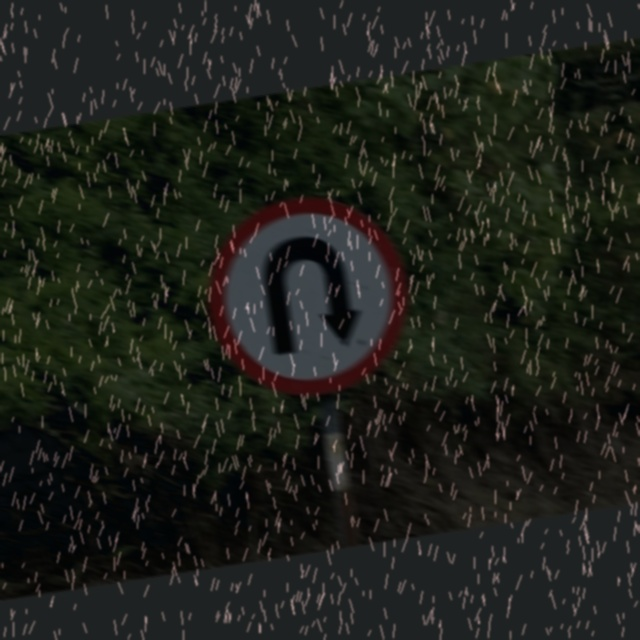U_Turn_Ahead: (196, 186, 426, 402)
